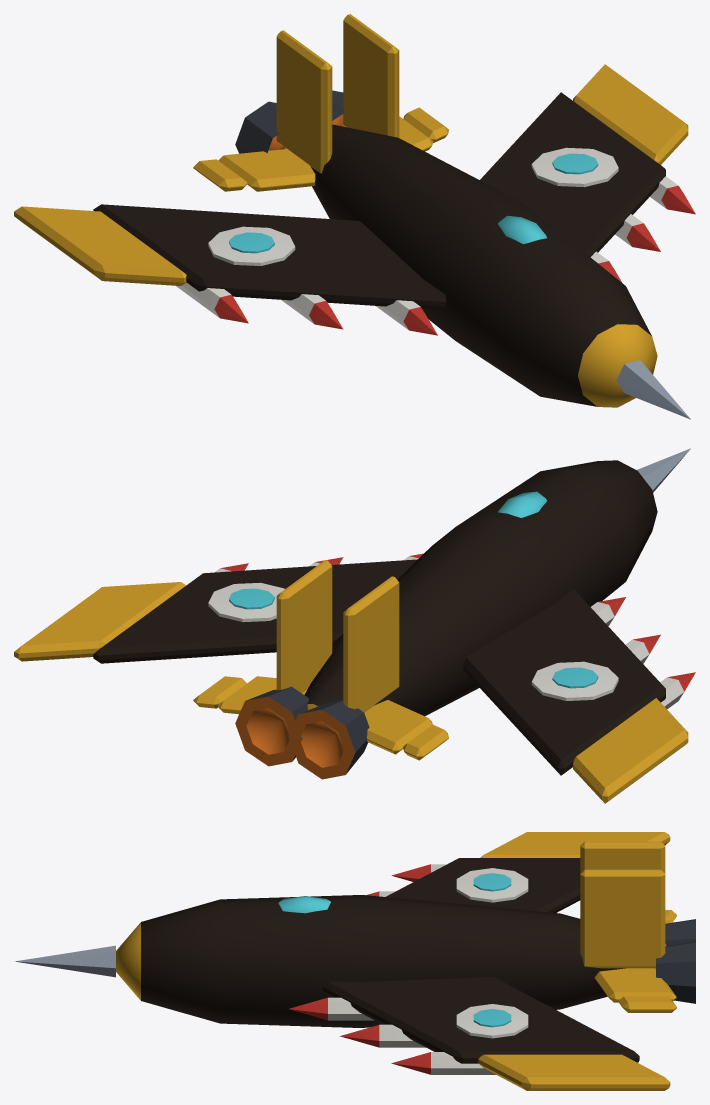
The picture shows the model from 3 angles, top to bottom: view 1: azimuth 30°, elevation 25°; view 2: azimuth 150°, elevation 25°; view 3: azimuth 270°, elevation 25°; orthographic projection. The views are drawn at different scales.
Parts seen in each view (by area): view 1: as_0_base; view 2: as_0_base; view 3: as_0_base.
Part boxes in pixels (<box>): as_0_base: <box>14,14,695,419</box>; as_0_base: <box>14,448,695,803</box>; as_0_base: <box>14,832,695,1090</box>.
Size of the model in its own units: 1.33 by 0.4134 by 1.54.
